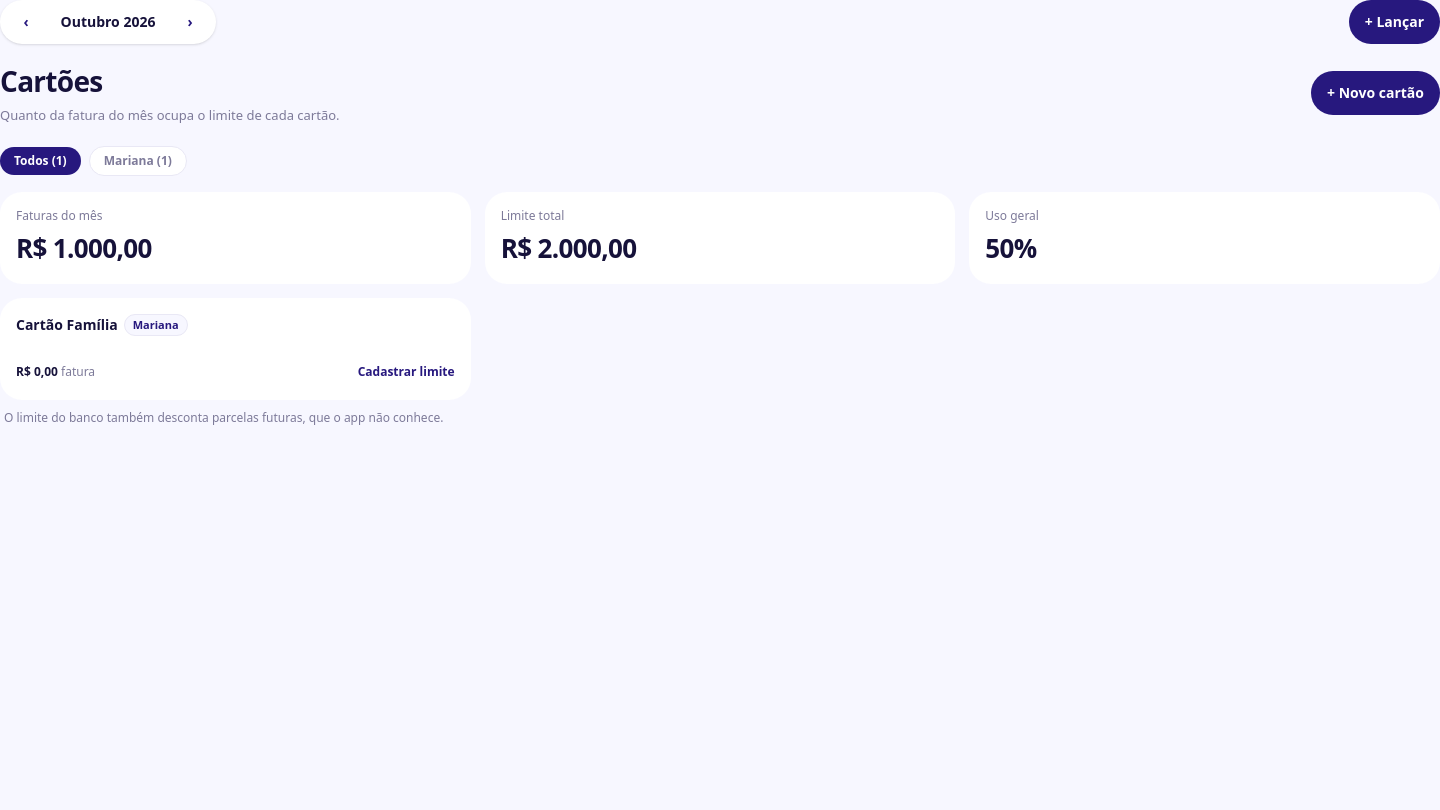
CartoesPage › exibe_sugestoes_dinamicas_de_titulares_e_nao_estaticas
Click the button "+ Novo cartão". click: (1376, 93)
box: [1311,71,1439,115]
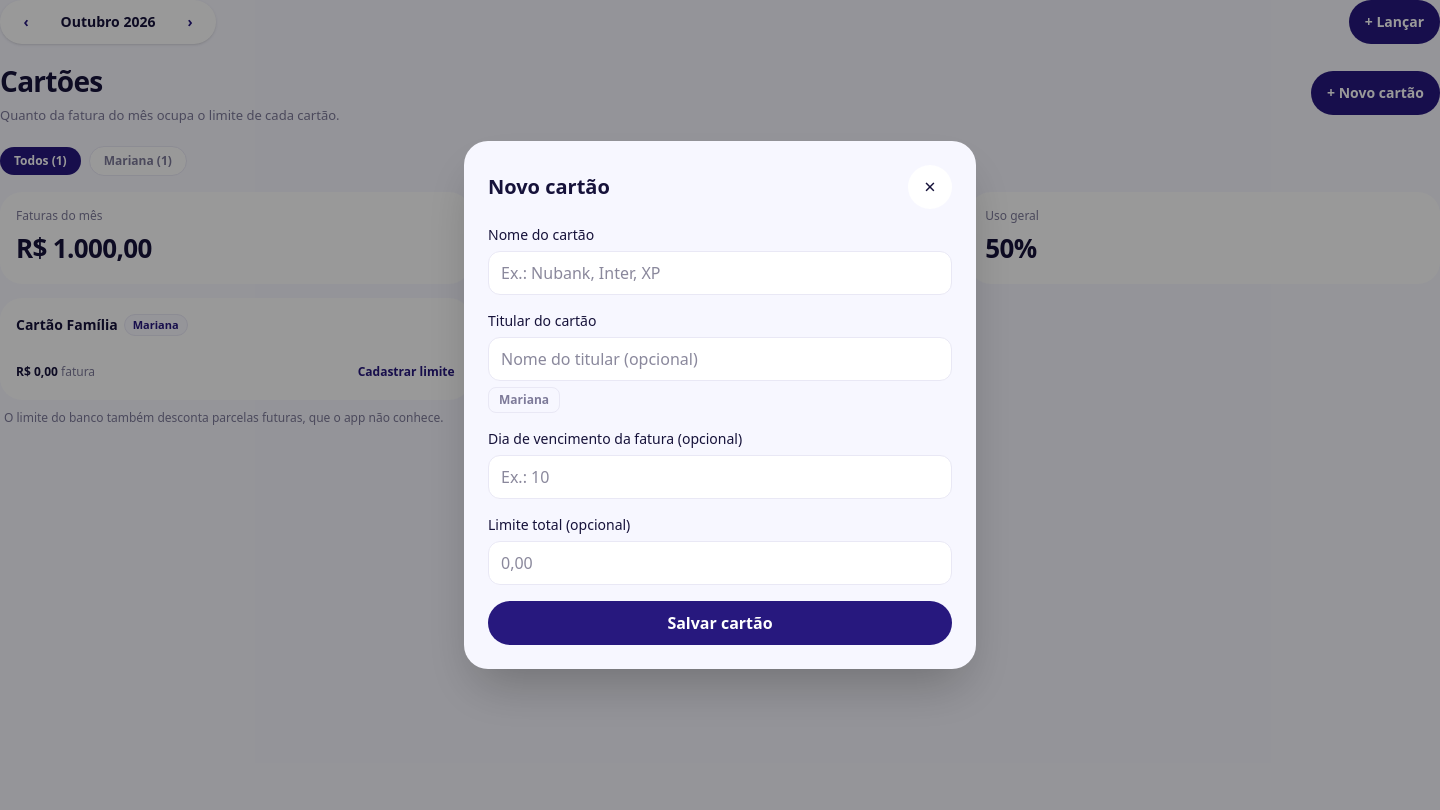
expect the button "Mariana" is shown: met
Note: Clicar no chip de sugestão preenche o campo
Click the button "Mariana". click: (524, 400)
box: [488,387,560,413]
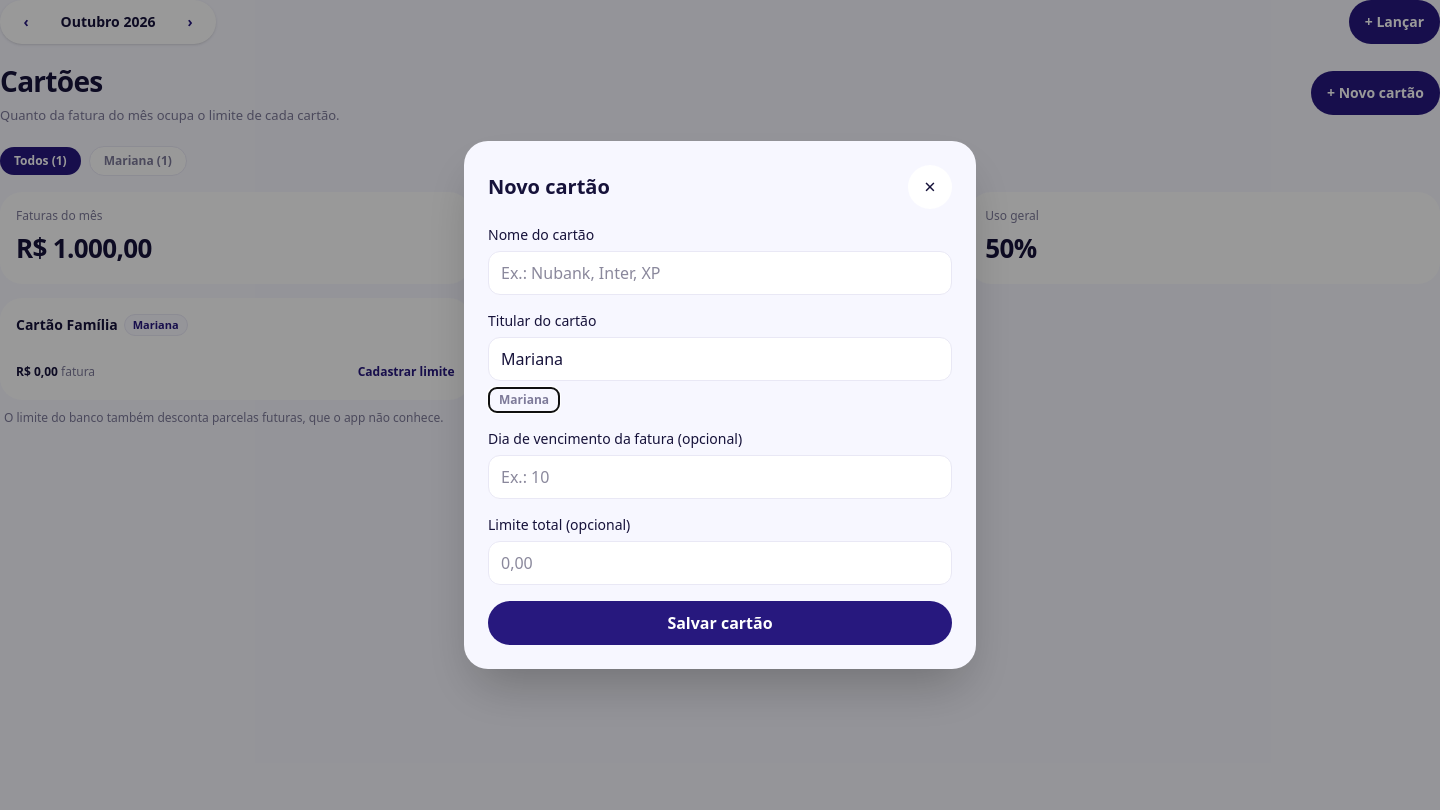
expect the field labelled "Titular do cartão" holds "Mariana": met, box [488,337,952,381]
